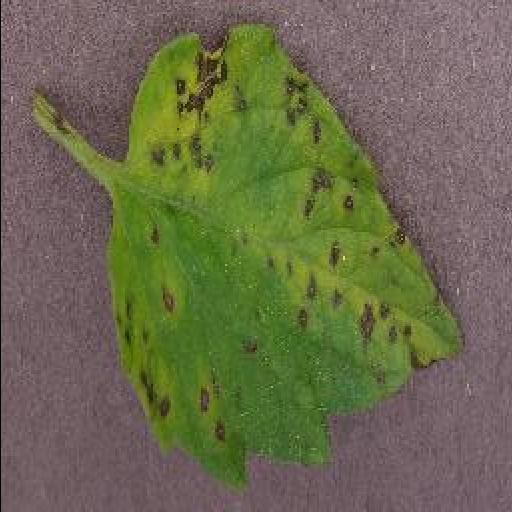disease_tomato: (106, 22, 470, 491)
